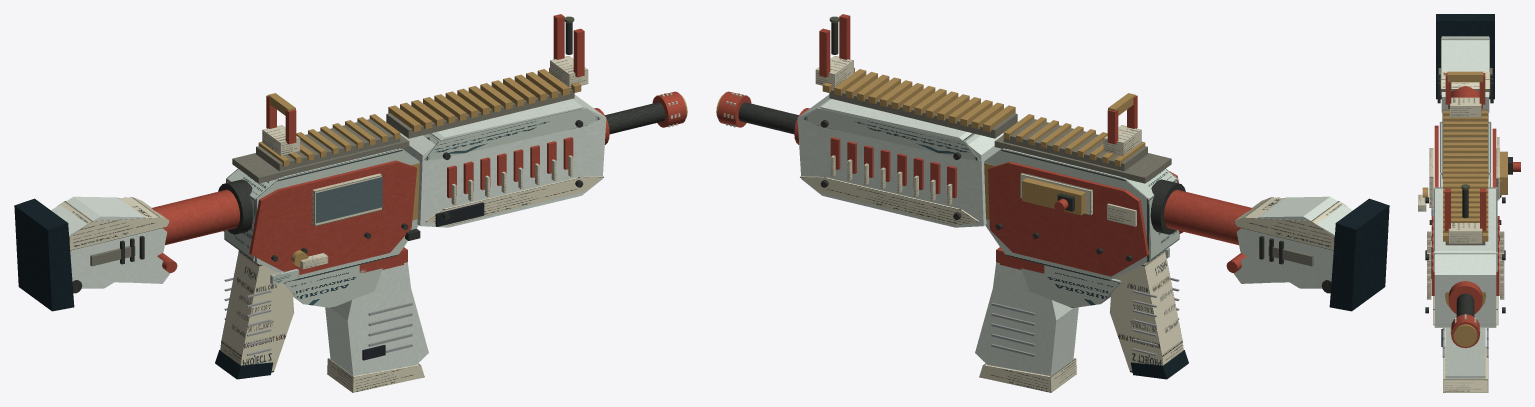
The model's file is PROJECT_Z_Fictional_Civilian_Rifle.glb.
3 views of the same model, side by side, from view 1: azimuth 30°, elevation 25°; view 2: azimuth 150°, elevation 25°; view 3: azimuth 270°, elevation 25° (orthographic). The views are drawn at different scales.
Visible parts, largest first — view 1: Receiver_Left_Layered_DustCover_Plate, Handguard_Primary_Capped_Tapered_Shroud, Magazine_Curved_Polymer_Wall_MainShell, Grip_Sloped_Ergonomic_Rubberized_Profile, Stock_Rubber_Contoured_Shoulder_Buttpad, Upper_Rail_15x_Short_Patterned_CrossRidges, Stock_Rear_Composite_ButtHousing, Receiver_Main_Monocoque_Capped_LowPoly_Shell, Handguard_Upper_Beveled_OuterRib, Stock_Central_False_BufferSleeve_Solid, Receiver_Lower_Frame_Sculpted_Profile, Stock_Upper_Cheek_Weld_Pad (+22 smaller); view 2: Receiver_Right_Layered_DustCover_Plate, Handguard_Primary_Capped_Tapered_Shroud, Magazine_Curved_Polymer_Wall_MainShell, Grip_Sloped_Ergonomic_Rubberized_Profile, Stock_Rubber_Contoured_Shoulder_Buttpad, Upper_Rail_15x_Short_Patterned_CrossRidges, Stock_Rear_Composite_ButtHousing, Receiver_Main_Monocoque_Capped_LowPoly_Shell, Handguard_Upper_Beveled_OuterRib, Stock_Central_False_BufferSleeve_Solid, Handguard_Lower_Beveled_OuterRib, Receiver_Lower_Frame_Sculpted_Profile (+20 smaller); view 3: Handguard_Primary_Capped_Tapered_Shroud, Upper_Rail_15x_Short_Patterned_CrossRidges, Upper_Receiver_Rail_10x_CrossRidges, Stock_Rear_Composite_ButtHousing, Stock_Rubber_Contoured_Shoulder_Buttpad, Magazine_Curved_Polymer_Wall_MainShell, Magazine_Sealed_Bottom_Bumper_FloorPlate, FrontSight_BaseBlock_Child, RearSight_Base_Block_Child, Handguard_16x_Longitudinal_Vent_Fins, Barrel_Outer_Shroud_Ring, FrontSight_Protective_Black_Ears (+25 smaller).
Boxes of the visible parts, box(x1,y1,x2,y2) form: Receiver_Left_Layered_DustCover_Plate: box(249, 160, 416, 274); Handguard_Primary_Capped_Tapered_Shroud: box(400, 94, 606, 227); Magazine_Curved_Polymer_Wall_MainShell: box(325, 262, 428, 375); Grip_Sloped_Ergonomic_Rubberized_Profile: box(220, 250, 293, 372); Stock_Rubber_Contoured_Shoulder_Buttpad: box(14, 198, 74, 311); Upper_Rail_15x_Short_Patterned_CrossRidges: box(388, 67, 581, 131); Stock_Rear_Composite_ButtHousing: box(51, 196, 167, 288); Receiver_Main_Monocoque_Capped_LowPoly_Shell: box(224, 148, 419, 281); Handguard_Upper_Beveled_OuterRib: box(423, 98, 600, 160); Stock_Central_False_BufferSleeve_Solid: box(152, 189, 239, 245); Receiver_Lower_Frame_Sculpted_Profile: box(283, 265, 382, 307); Stock_Upper_Cheek_Weld_Pad: box(58, 197, 169, 250); Receiver_Right_Layered_DustCover_Plate: box(988, 161, 1148, 276); Handguard_Primary_Capped_Tapered_Shroud: box(797, 94, 1003, 227); Magazine_Curved_Polymer_Wall_MainShell: box(975, 262, 1078, 375); Grip_Sloped_Ergonomic_Rubberized_Profile: box(1110, 250, 1183, 372); Stock_Rubber_Contoured_Shoulder_Buttpad: box(1329, 198, 1389, 311); Upper_Rail_15x_Short_Patterned_CrossRidges: box(822, 67, 1015, 131); Stock_Rear_Composite_ButtHousing: box(1236, 196, 1352, 288); Receiver_Main_Monocoque_Capped_LowPoly_Shell: box(984, 148, 1179, 281); Handguard_Upper_Beveled_OuterRib: box(803, 98, 980, 160); Stock_Central_False_BufferSleeve_Solid: box(1164, 189, 1251, 245); Handguard_Lower_Beveled_OuterRib: box(800, 176, 978, 225); Receiver_Lower_Frame_Sculpted_Profile: box(1021, 265, 1122, 307); Handguard_Primary_Capped_Tapered_Shroud: box(1434, 188, 1496, 327); Upper_Rail_15x_Short_Patterned_CrossRidges: box(1443, 164, 1488, 241); Upper_Receiver_Rail_10x_CrossRidges: box(1443, 111, 1487, 163); Stock_Rear_Composite_ButtHousing: box(1441, 36, 1489, 112); Stock_Rubber_Contoured_Shoulder_Buttpad: box(1436, 14, 1494, 99); Magazine_Curved_Polymer_Wall_MainShell: box(1445, 328, 1485, 378); Magazine_Sealed_Bottom_Bumper_FloorPlate: box(1443, 346, 1488, 392); FrontSight_BaseBlock_Child: box(1448, 223, 1482, 243); RearSight_Base_Block_Child: box(1449, 97, 1481, 117); Handguard_16x_Longitudinal_Vent_Fins: box(1427, 231, 1504, 299); Barrel_Outer_Shroud_Ring: box(1448, 281, 1482, 314); FrontSight_Protective_Black_Ears: box(1444, 188, 1486, 231).
Size of the model in its own units: 1.05 by 0.482 by 0.1635.
Materials: 1 (1 with a texture image).
